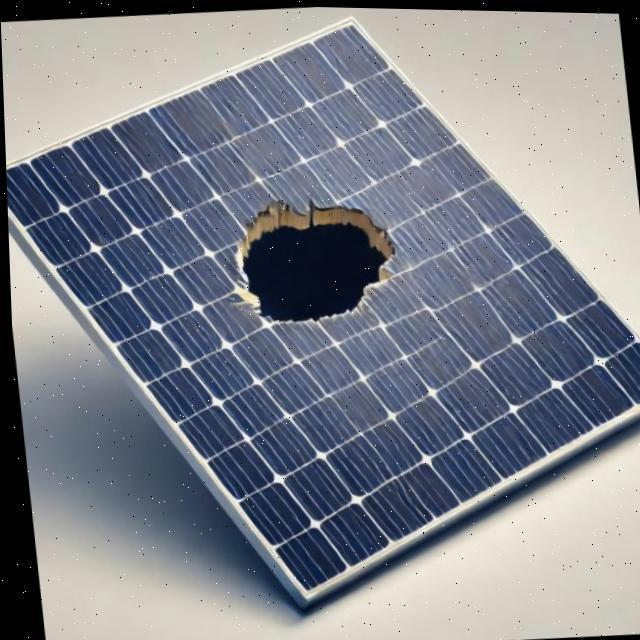Anomaly Solar Panel: (5, 19, 640, 595)
Structural Damage: (222, 190, 403, 324)
